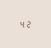four: (19, 20, 24, 28)
two: (25, 20, 30, 27)
